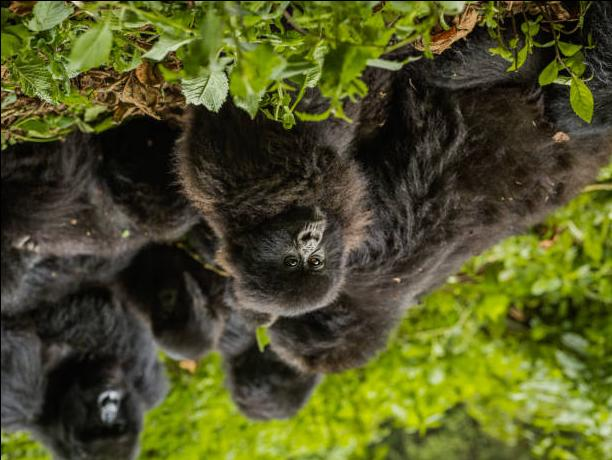goriile_montagne: (148, 80, 350, 308), (0, 286, 176, 460)
